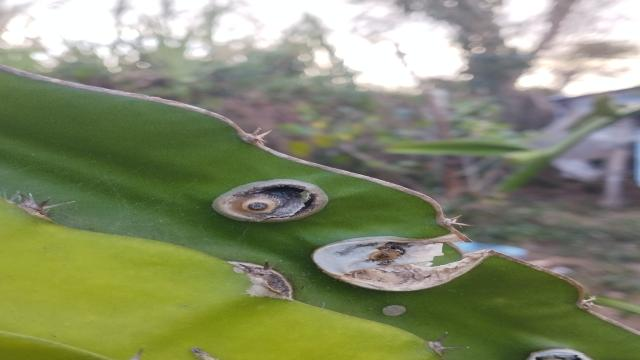stemcanker: (367, 296, 434, 340)
